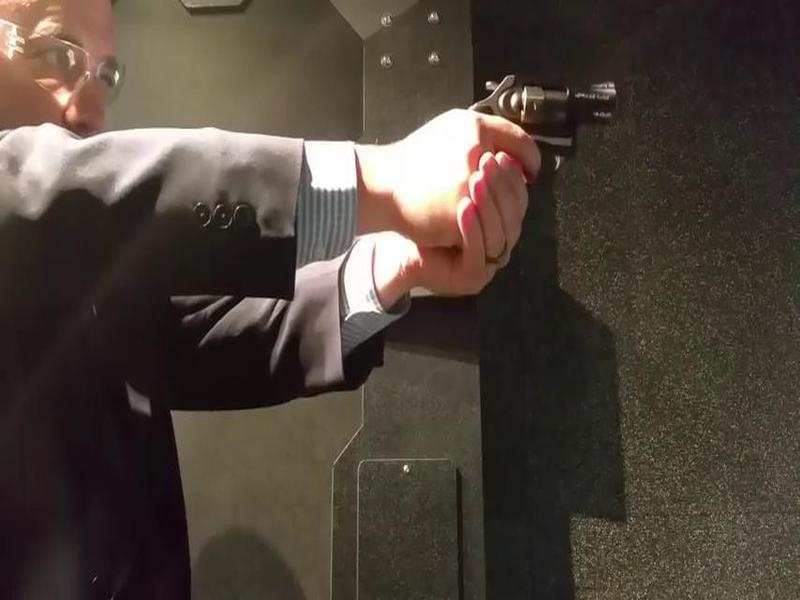Revolver: (466, 68, 644, 183)
